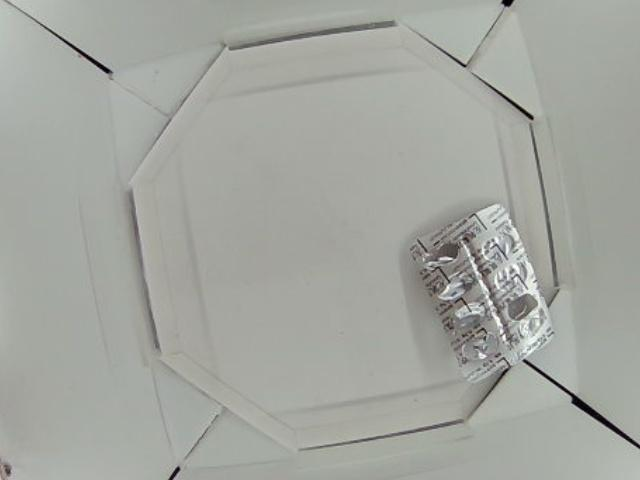Medicine: (410, 201, 557, 378)
